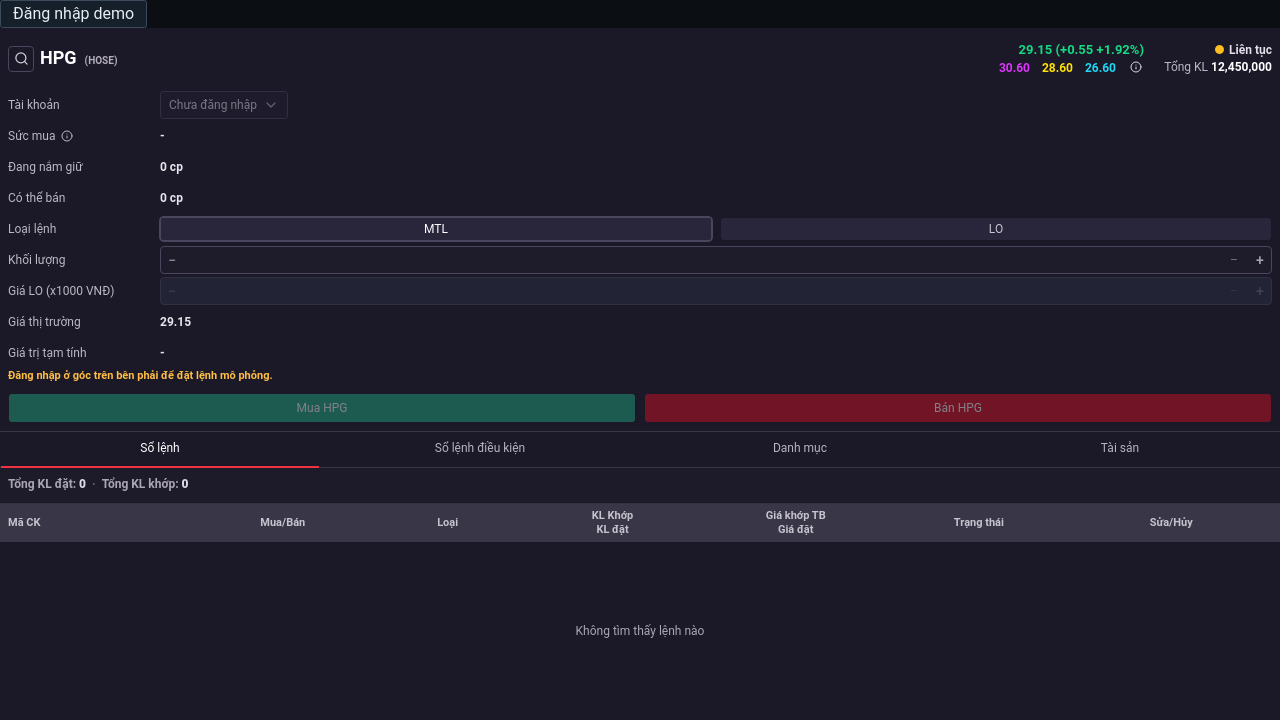
Test case: OrderTicketPanel › logs in and submits a simulated MTL order for the selected symbol
Click the button "Đăng nhập demo" at (74, 14), box [0,0,147,28]
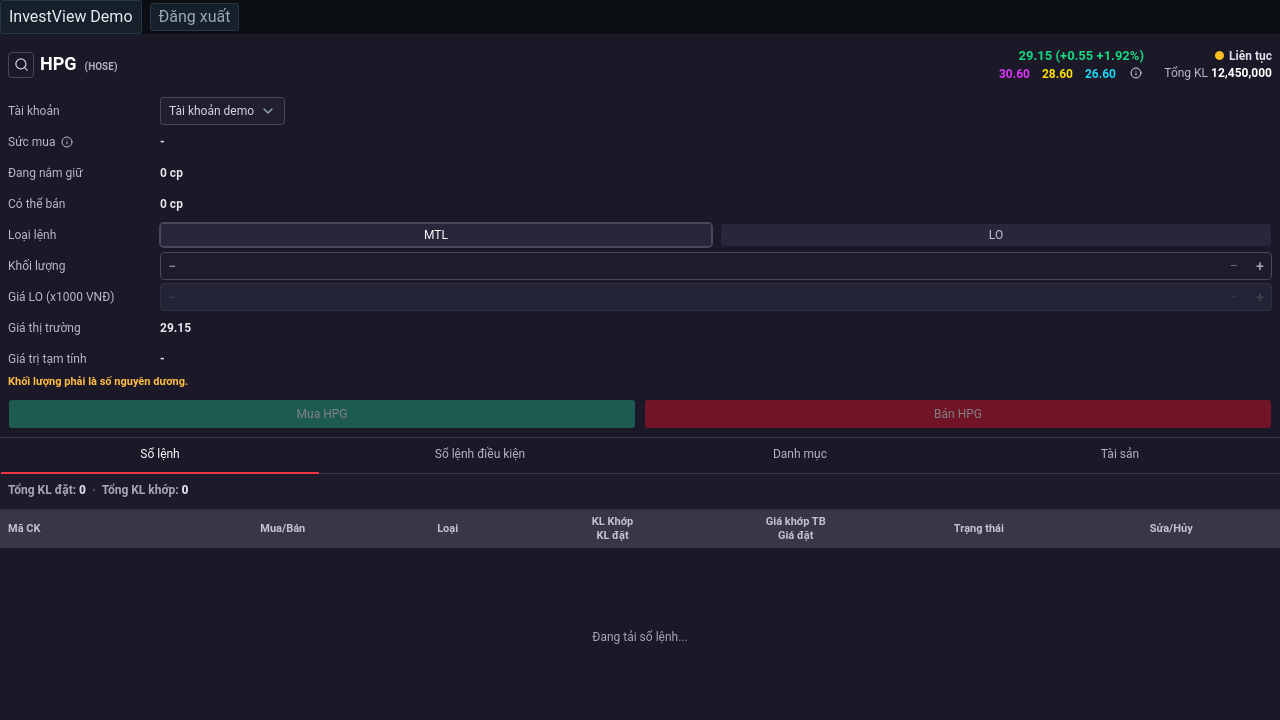
Expected: the button "Mua HPG" is shown, [8,398,636,428]
Type "100" into the field named "Khối lượng" at (716, 266), box [188,252,1244,278]
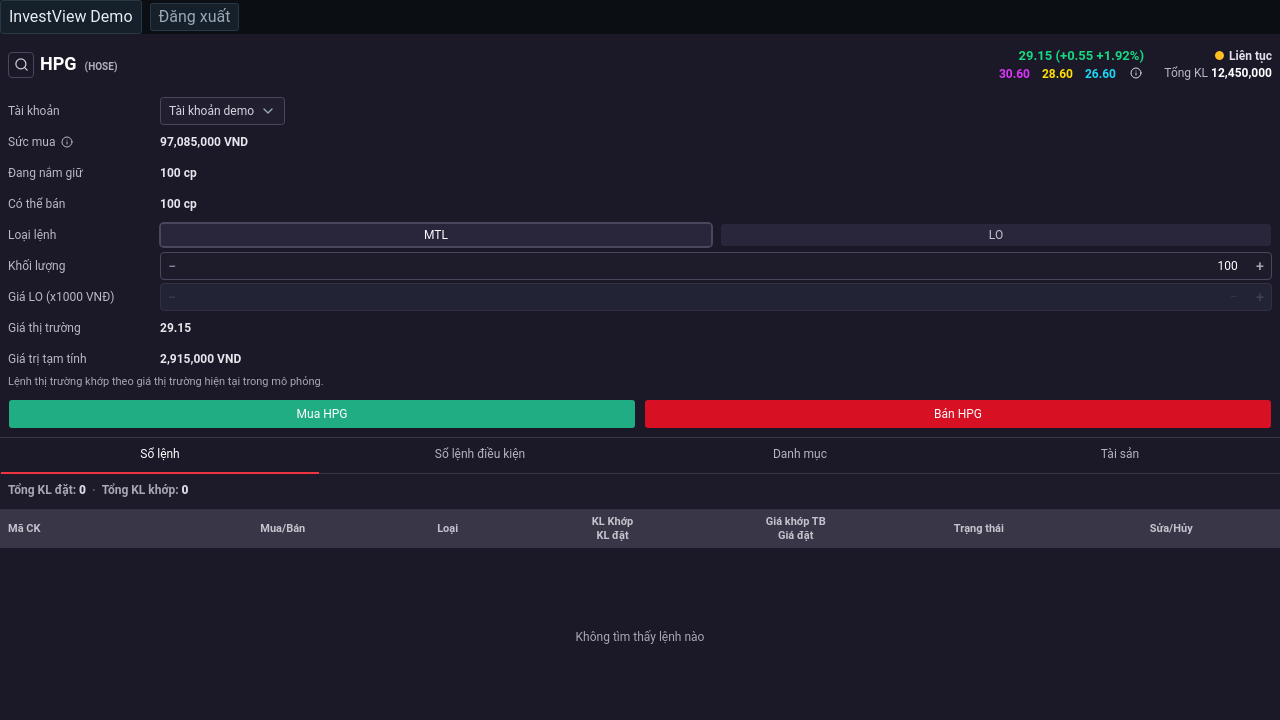
Click the button "Mua HPG" at (322, 414), box [8,398,636,428]
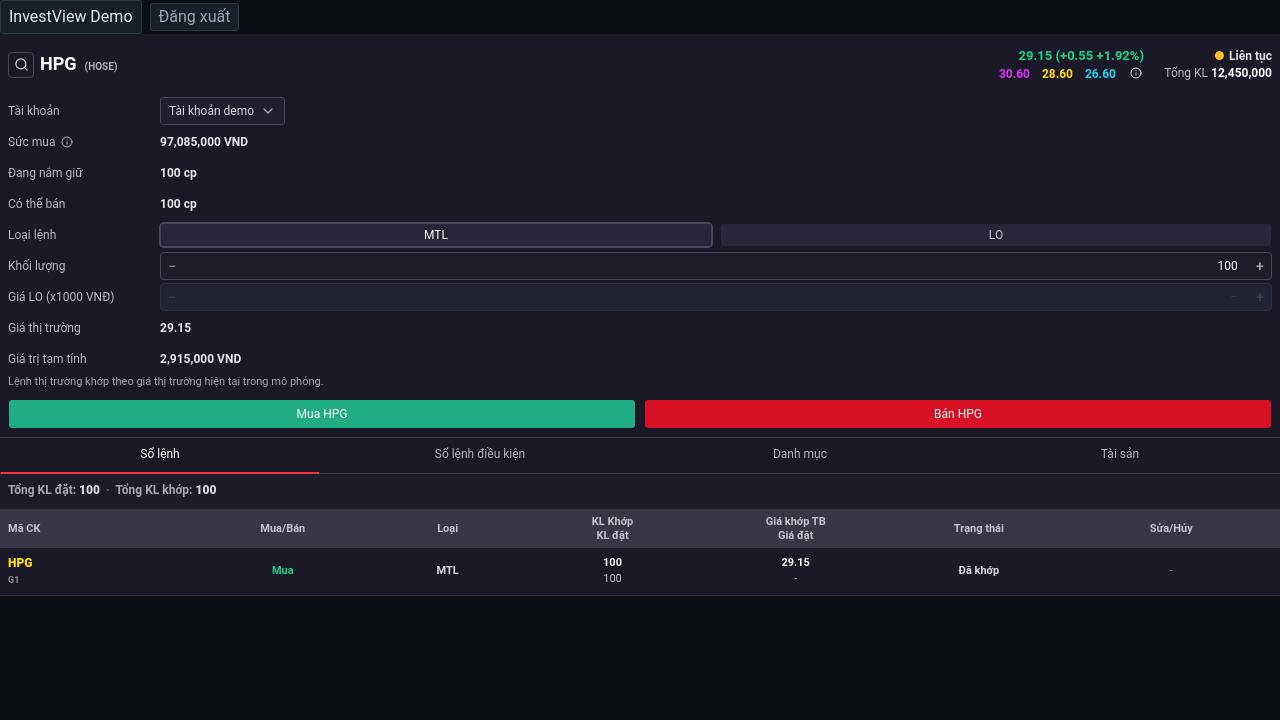
Expected: the row named "HPG Mua MTL Đã khớp" is shown, [0,548,1279,596]
